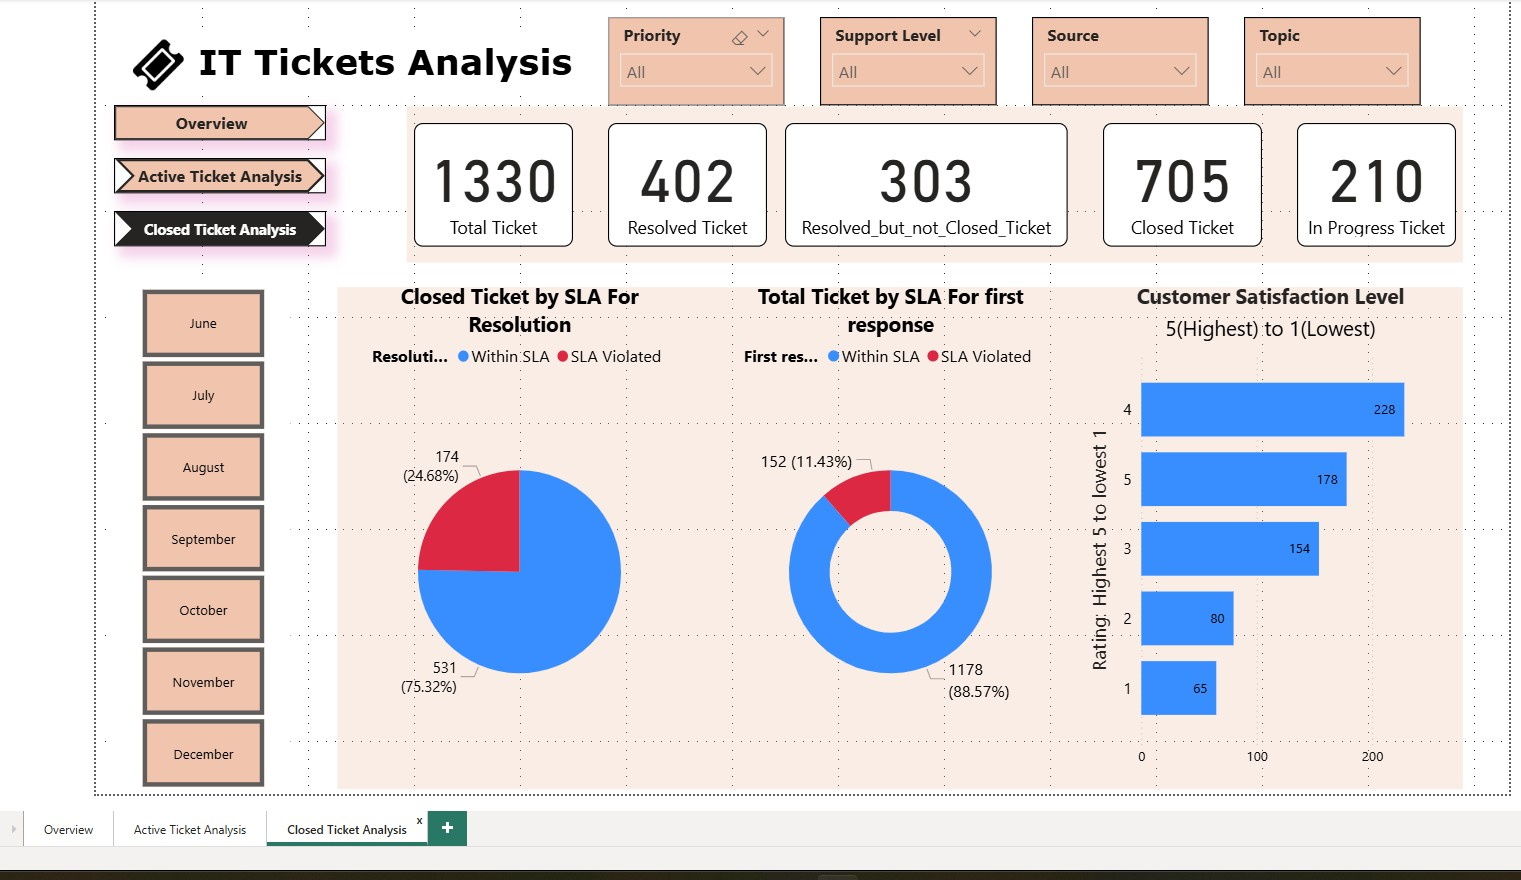

This screenshot's page, from the dashboard's own definition file:
{"tool":"powerbi","page":{"name":"Closed Ticket Analysis","canvas":[1280,720],"ordinal":2},"visuals":[{"type":"basicShape","box":[272,96,976,144],"z":0},{"type":"basicShape","box":[208,256,1040,464],"z":1000},{"type":"textbox","box":[88,32,368,56],"z":2000},{"type":"image","box":[24,32,64,56],"z":3000},{"type":"slicer","fields":{"Values":["Data.Priority"]},"box":[464,16,160,80],"z":4000},{"type":"slicer","fields":{"Values":["Data.Source"]},"box":[848,16,160,80],"z":5000},{"type":"slicer","fields":{"Values":["Data.Topic"]},"box":[1040,16,160,80],"z":6000},{"type":"card","fields":{"Values":["All Measures.Total Ticket"]},"box":[288,112,144,112],"z":7000},{"type":"card","fields":{"Values":["All Measures.Not_Closed_Resolved_Ticket"]},"box":[624,112,256,112],"z":8000},{"type":"card","fields":{"Values":["All Measures.In Progress Ticket"]},"box":[1088,112,144,112],"z":9000},{"type":"card","fields":{"Values":["All Measures.Resolved Ticket"]},"box":[464,112,144,112],"z":10000},{"type":"card","fields":{"Values":["All Measures.Closed Ticket"]},"box":[912,112,144,112],"z":11000},{"type":"donutChart","fields":{"Y":["All Measures.Total Ticket"],"Category":["Data.SLA For first response"]},"box":[560,256,320,448],"z":12000},{"type":"clusteredBarChart","title":"Customer Satisfaction Level","fields":{"Category":["Data.Survey results"],"Y":["All Measures.Total Ticket"]},"box":[896,256,336,448],"z":13000},{"type":"slicer","fields":{"Values":["Data.Support Level"]},"box":[656,16,160,80],"z":14000},{"type":"pieChart","fields":{"Category":["Data.SLA For Resolution"],"Y":["All Measures.Closed Ticket"]},"box":[224,256,320,448],"z":15000},{"type":"pageNavigator","box":[16,96,192,32],"z":16000},{"type":"pageNavigator","box":[16,144,192,32],"z":17000},{"type":"pageNavigator","box":[16,192,192,32],"z":18000},{"type":"slicer","fields":{"Values":["Data.Month Name Ticket Created"]},"box":[16,256,160,464],"z":19000}]}

Visuals, with their boxes on the page's 1280x720 design canvas (x1, y1, x2, y2). These are canvas units, not pixel positions in the 1521x880 screenshot, which may show the page scaled, cropped or inside an application window:
basicShape: <bbox>272, 96, 1248, 240</bbox>
basicShape: <bbox>208, 256, 1248, 720</bbox>
textbox: <bbox>88, 32, 456, 88</bbox>
image: <bbox>24, 32, 88, 88</bbox>
slicer - Data.Priority: <bbox>464, 16, 624, 96</bbox>
slicer - Data.Source: <bbox>848, 16, 1008, 96</bbox>
slicer - Data.Topic: <bbox>1040, 16, 1200, 96</bbox>
card - All Measures.Total Ticket: <bbox>288, 112, 432, 224</bbox>
card - All Measures.Not_Closed_Resolved_Ticket: <bbox>624, 112, 880, 224</bbox>
card - All Measures.In Progress Ticket: <bbox>1088, 112, 1232, 224</bbox>
card - All Measures.Resolved Ticket: <bbox>464, 112, 608, 224</bbox>
card - All Measures.Closed Ticket: <bbox>912, 112, 1056, 224</bbox>
donutChart - All Measures.Total Ticket x Data.SLA For first response: <bbox>560, 256, 880, 704</bbox>
"Customer Satisfaction Level" clusteredBarChart: <bbox>896, 256, 1232, 704</bbox>
slicer - Data.Support Level: <bbox>656, 16, 816, 96</bbox>
pieChart - Data.SLA For Resolution x All Measures.Closed Ticket: <bbox>224, 256, 544, 704</bbox>
pageNavigator: <bbox>16, 96, 208, 128</bbox>
pageNavigator: <bbox>16, 144, 208, 176</bbox>
pageNavigator: <bbox>16, 192, 208, 224</bbox>
slicer - Data.Month Name Ticket Created: <bbox>16, 256, 176, 720</bbox>
